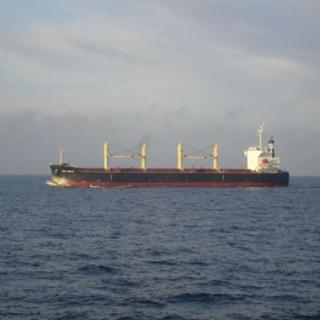Bulk Carrier: (46, 151, 287, 187)
